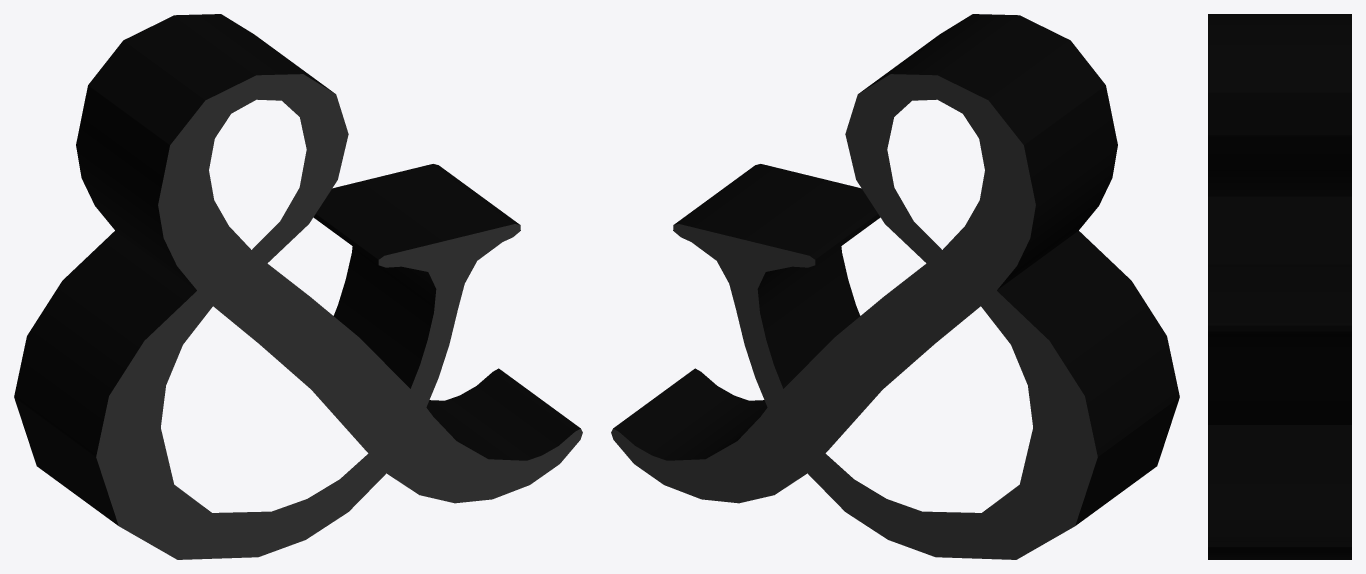
3 renders of one model, left to right at view 1: azimuth 30°, elevation 25°; view 2: azimuth 150°, elevation 25°; view 3: azimuth 270°, elevation 25°, orthographic. The views are drawn at different scales.
Visible parts, largest first — view 1: &_Soul_Black; view 2: &_Soul_Black; view 3: &_Soul_Black.
Part boxes in pixels (x1,y1,x2,y2): &_Soul_Black: (14, 14, 582, 559); &_Soul_Black: (611, 14, 1179, 559); &_Soul_Black: (1208, 14, 1351, 559).
Size of what is drawn, in the model's own units: 0.1541 by 0.1459 by 0.045.
2 materials, 2 textured.
